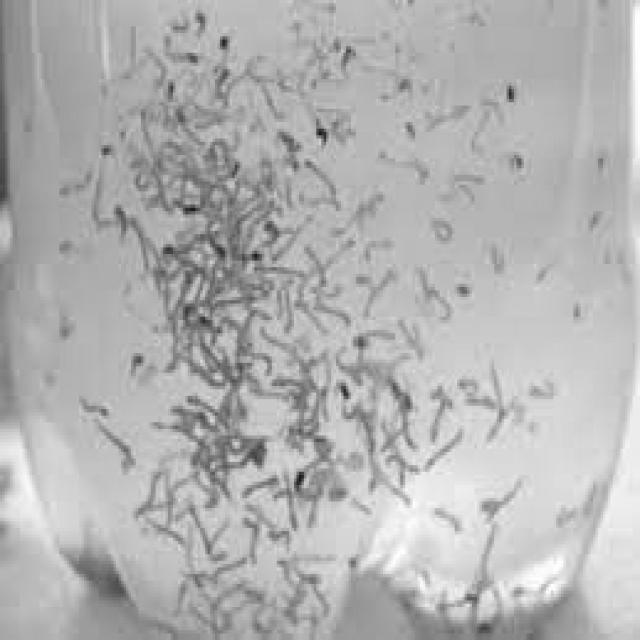larvas: (480, 472, 524, 516), (266, 325, 306, 367), (336, 195, 380, 233), (93, 146, 112, 222), (98, 425, 134, 464), (512, 570, 562, 598), (276, 222, 310, 263), (377, 153, 430, 179), (430, 432, 465, 471), (364, 270, 393, 316), (302, 349, 333, 391), (558, 488, 591, 525), (477, 582, 502, 629), (218, 450, 265, 475), (424, 105, 465, 133), (134, 474, 160, 518), (288, 576, 316, 616), (164, 41, 200, 72), (182, 394, 223, 420), (164, 275, 187, 319), (128, 215, 147, 268), (433, 590, 476, 613), (300, 566, 326, 604), (189, 472, 218, 506), (470, 111, 490, 160), (377, 472, 409, 502), (245, 378, 285, 402), (148, 520, 180, 550), (323, 240, 351, 274), (180, 113, 206, 149), (428, 384, 445, 438), (487, 404, 514, 438), (242, 471, 276, 498), (130, 156, 155, 192), (173, 14, 212, 37), (452, 175, 486, 201), (477, 527, 494, 579), (315, 298, 350, 323), (308, 165, 338, 194), (179, 359, 212, 385), (360, 240, 395, 264), (488, 360, 503, 416), (148, 52, 167, 96), (192, 98, 218, 130), (333, 345, 356, 381), (282, 470, 296, 529), (172, 409, 213, 429), (303, 249, 324, 288), (251, 264, 302, 280), (354, 356, 405, 372), (215, 299, 242, 329), (246, 51, 272, 82), (191, 610, 231, 630), (218, 577, 246, 605), (434, 506, 462, 533), (251, 605, 277, 634), (343, 386, 362, 425), (162, 326, 178, 372), (430, 288, 451, 323), (204, 137, 232, 163), (311, 103, 327, 148), (232, 590, 262, 614), (241, 512, 258, 554), (192, 508, 208, 552), (267, 153, 299, 175), (142, 109, 158, 153), (210, 521, 228, 559), (295, 304, 323, 328), (154, 243, 173, 278), (400, 403, 414, 449), (126, 347, 148, 376), (182, 307, 212, 328), (393, 446, 416, 473), (249, 507, 273, 532), (390, 380, 413, 406), (274, 374, 307, 392), (156, 177, 171, 216), (525, 381, 557, 399), (228, 72, 246, 104), (347, 331, 395, 343), (59, 172, 89, 191), (261, 218, 280, 248), (215, 40, 232, 72), (239, 308, 251, 352), (382, 426, 403, 451), (164, 478, 174, 530), (153, 424, 190, 438), (263, 84, 280, 114), (385, 457, 406, 481), (114, 205, 129, 238), (301, 195, 339, 208), (217, 557, 244, 575), (198, 345, 218, 369), (212, 68, 226, 102), (277, 556, 291, 590), (493, 243, 509, 272), (433, 221, 454, 243), (365, 416, 376, 458), (459, 376, 482, 396), (279, 133, 303, 152), (460, 395, 495, 408), (251, 349, 270, 372), (266, 529, 288, 548), (369, 457, 381, 491), (220, 348, 237, 372), (314, 282, 343, 296), (418, 267, 430, 300), (413, 319, 422, 363), (209, 597, 220, 632), (174, 581, 186, 613), (285, 283, 293, 329), (354, 497, 373, 516), (79, 399, 106, 412), (182, 569, 218, 578), (196, 578, 212, 598), (273, 287, 282, 322), (146, 238, 158, 264), (401, 322, 412, 347), (62, 317, 72, 336)
